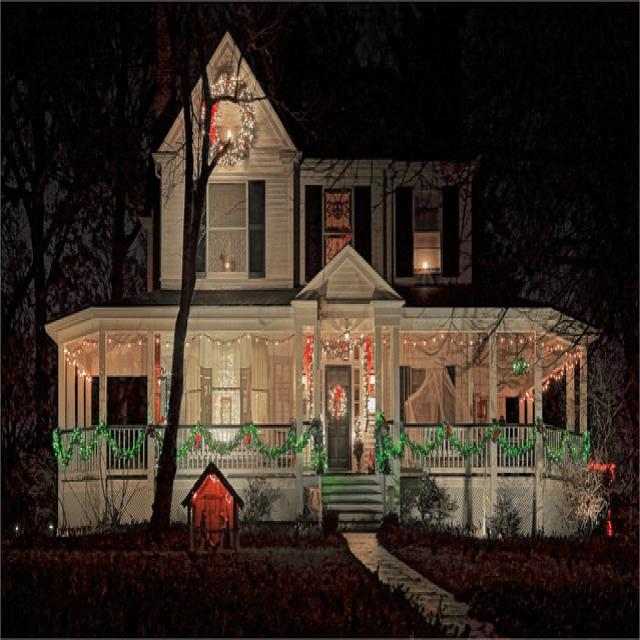building: (41, 26, 607, 548)
